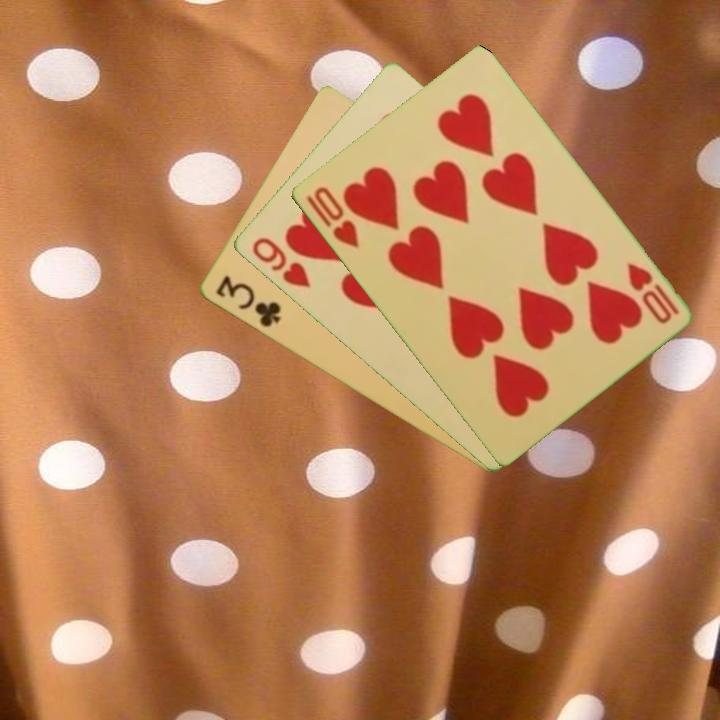10h: (301, 182, 362, 251), (623, 259, 682, 327)
3c: (211, 272, 284, 331)
9h: (248, 233, 313, 291)
